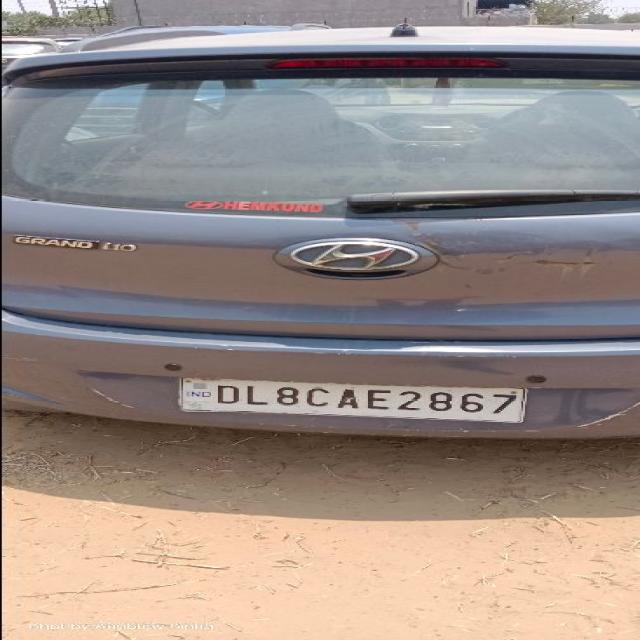license_plate: (176, 376, 529, 423)
